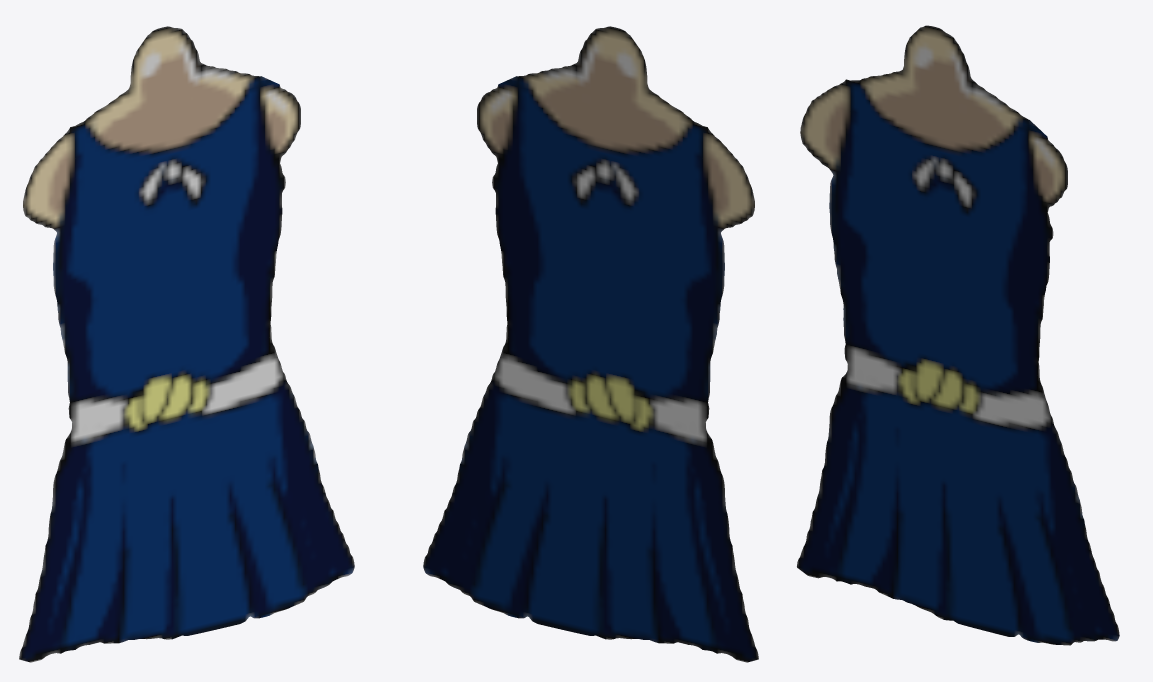
Rendered from giftgoods018.fbx.
3 renders of one model, left to right at view 1: azimuth 30°, elevation 25°; view 2: azimuth 150°, elevation 25°; view 3: azimuth 330°, elevation 25°, orthographic. The views are drawn at different scales.
Visible parts, largest first — view 1: giftgoods018; view 2: giftgoods018; view 3: giftgoods018.
Part boxes in pixels (x1,y1,x2,y2): giftgoods018: (19,26,354,662); giftgoods018: (423,26,758,662); giftgoods018: (797,25,1119,645).
Bounding box in the file's own units: 0.5579 × 0.9487 × 0.
